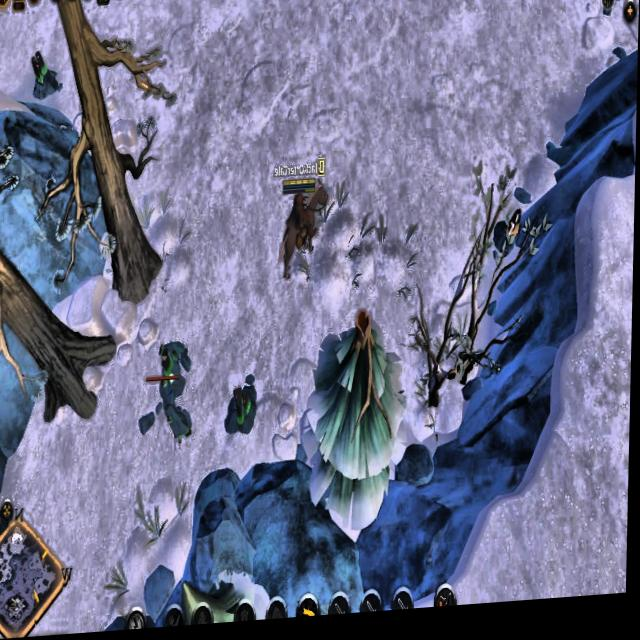copperore: (493, 203, 530, 267)
tinore: (222, 375, 263, 445)
